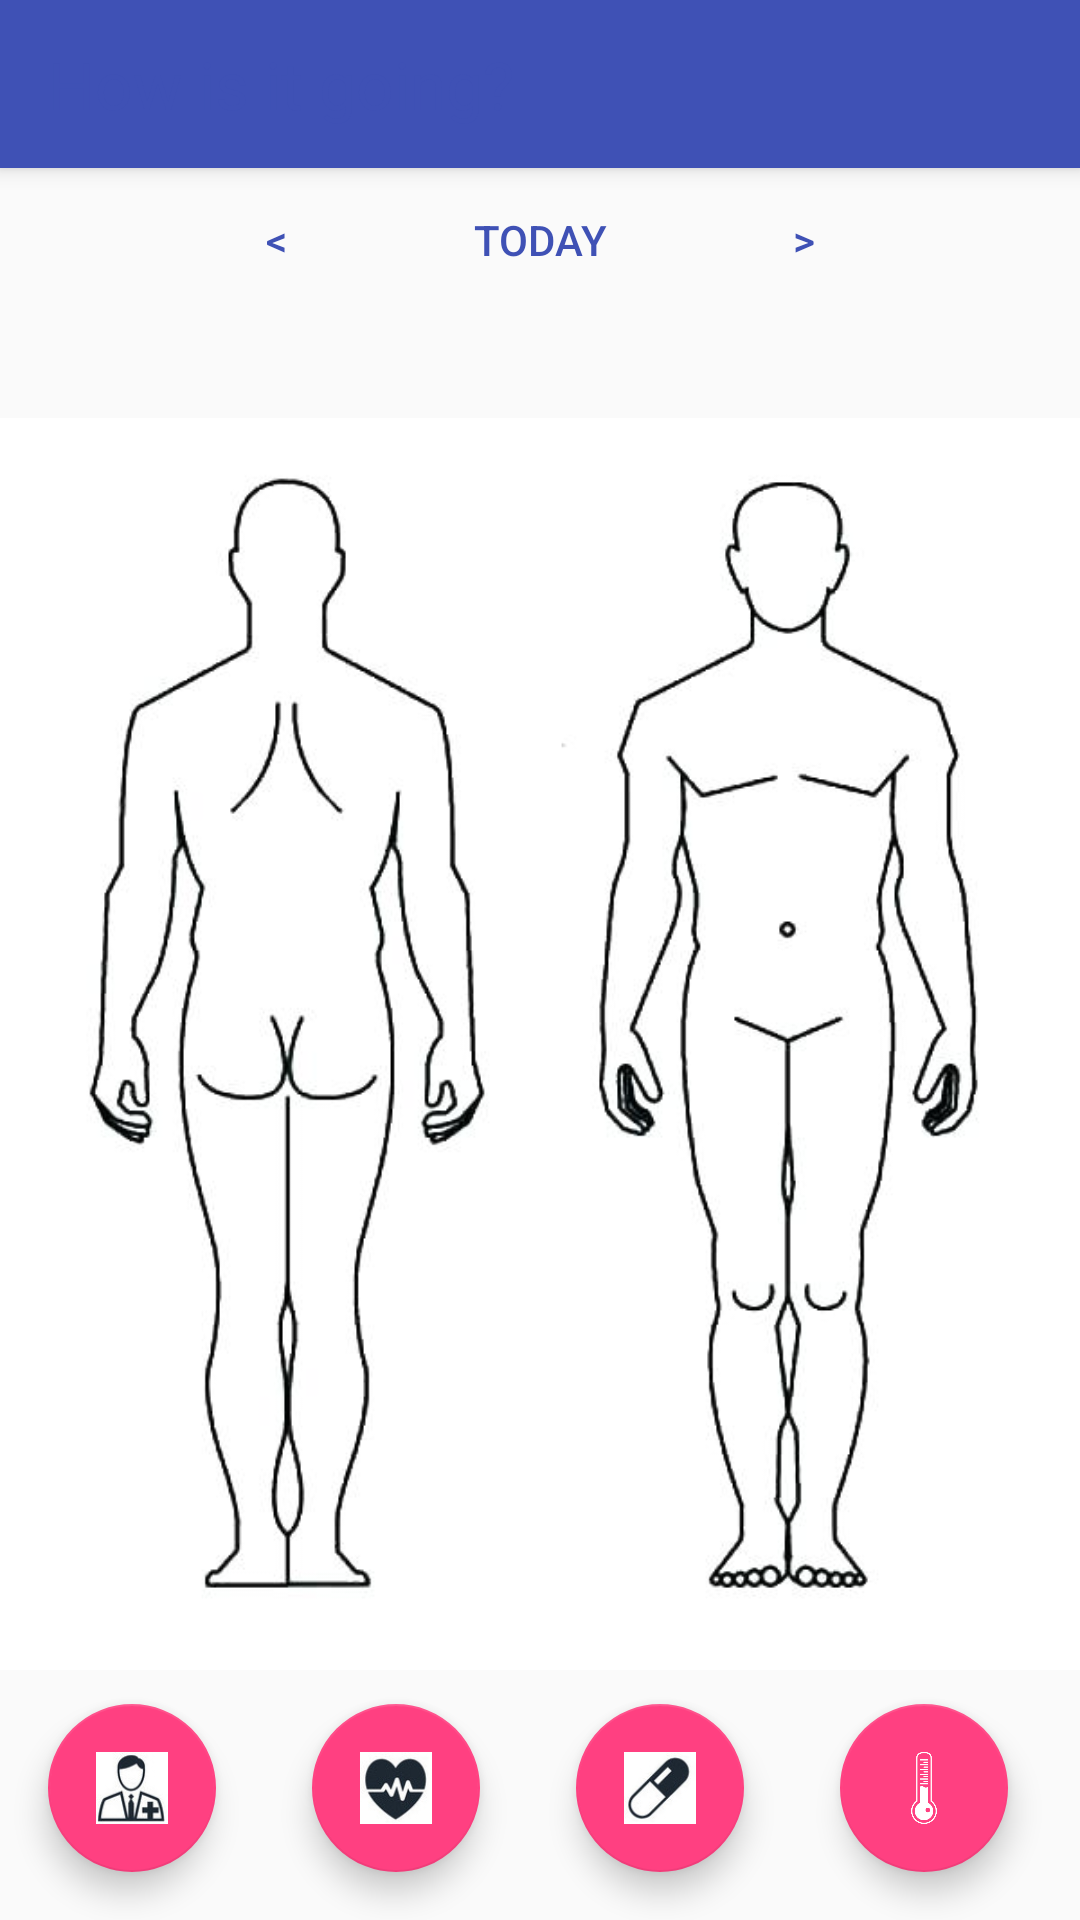

Icons on this 1080*1920 Android screen, each with the point to tap as [x,y]:
doctor: [132,1788]
heart beat: [396,1788]
pills: [660,1788]
temperature: [924,1788]
